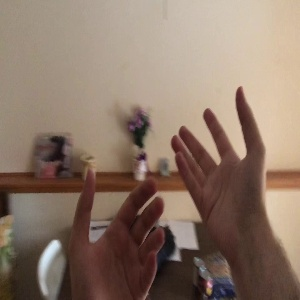hand: (171, 86, 267, 244), (68, 169, 165, 300)
